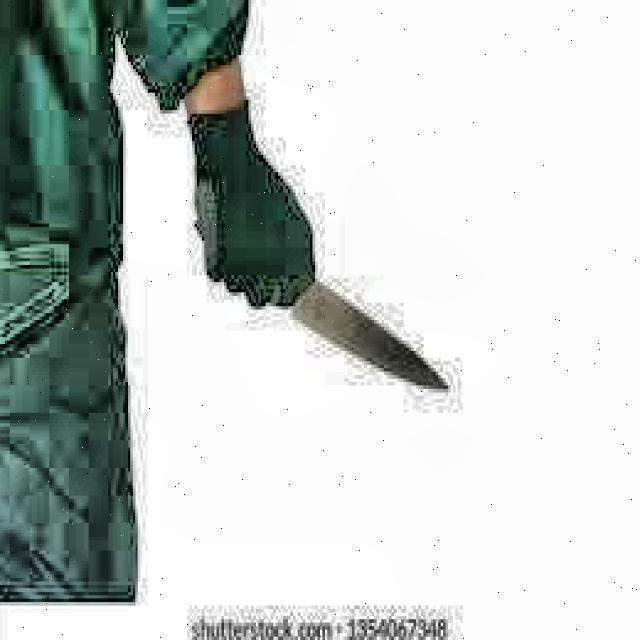knife: (196, 218, 452, 395)
